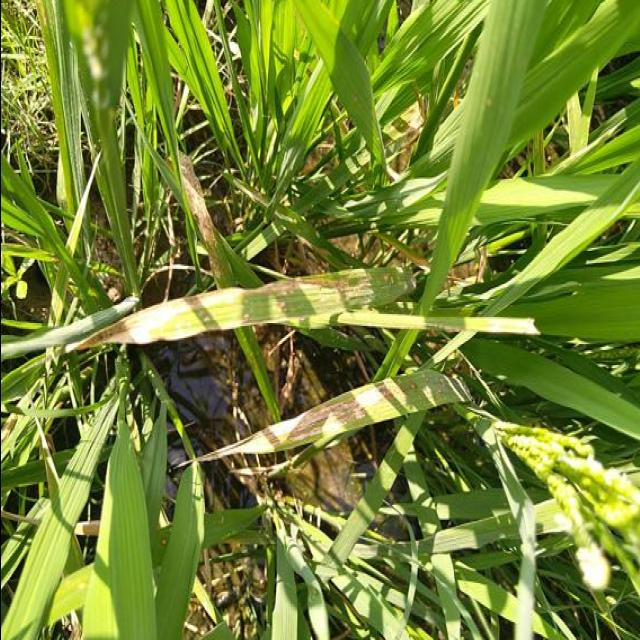Leaf Streak: (168, 368, 477, 484), (72, 266, 403, 347), (176, 149, 213, 246)
